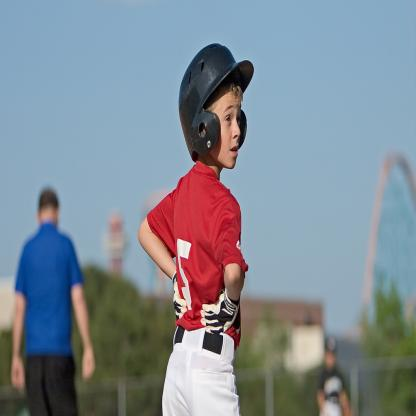Helmet: (173, 39, 245, 174)
